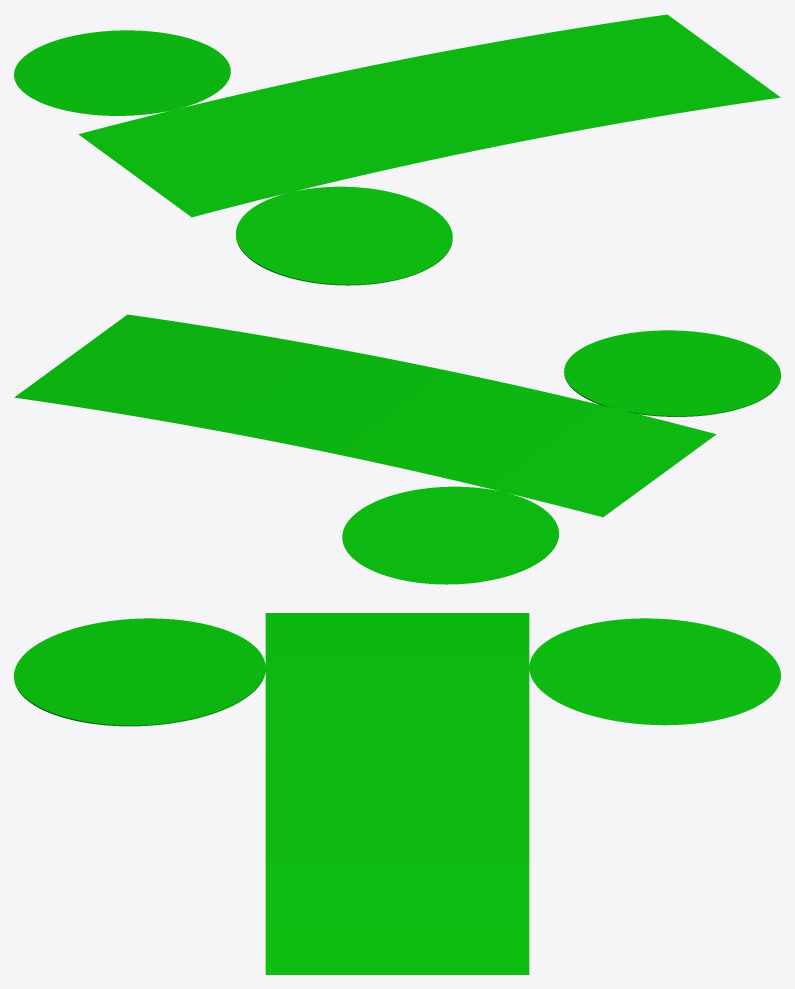
The model's file is plane bend9.obj.
3 views of the same model, one above another, from view 1: azimuth 30°, elevation 25°; view 2: azimuth 150°, elevation 25°; view 3: azimuth 270°, elevation 25° (orthographic). The views are drawn at different scales.
Parts seen in each view (by area): view 1: Plane, Circle, Circle.001; view 2: Plane, Circle.001, Circle; view 3: Plane, Circle, Circle.001.
Boxes of the visible parts, box(x1,y1,x2,y2) form: Plane: box(78, 14, 780, 217); Circle: box(236, 186, 452, 285); Circle.001: box(14, 30, 230, 115); Plane: box(14, 314, 716, 517); Circle.001: box(342, 486, 558, 584); Circle: box(564, 330, 780, 416); Plane: box(265, 613, 529, 974); Circle: box(14, 618, 265, 726); Circle.001: box(529, 618, 780, 725).
Size of the model in its own units: 5.99 by 0.2424 by 5.82.
